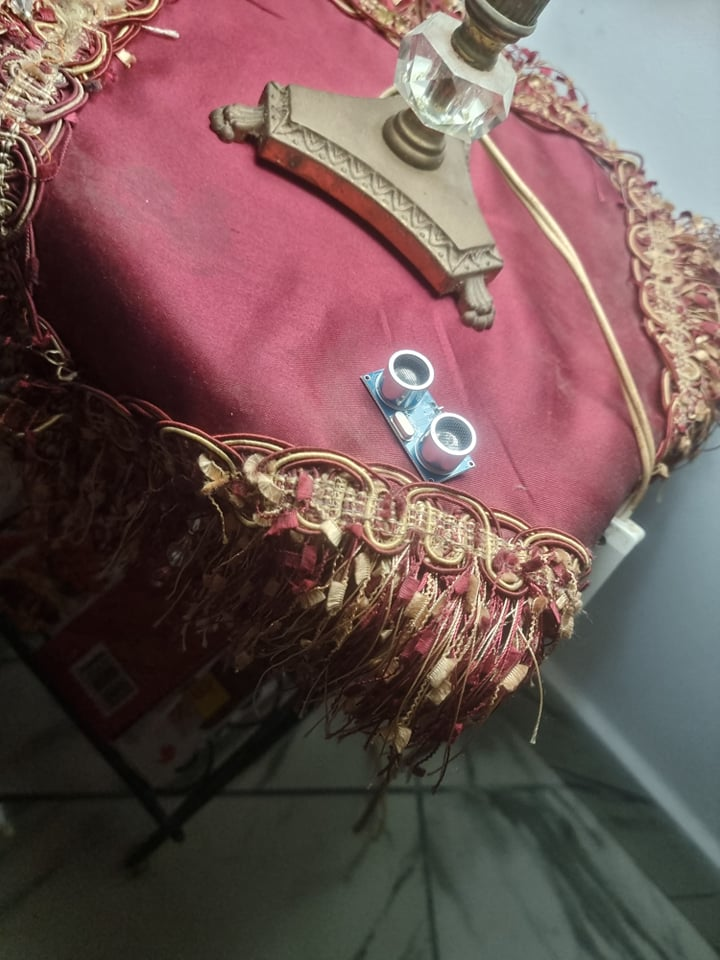SENSOR: (359, 347, 479, 486)
